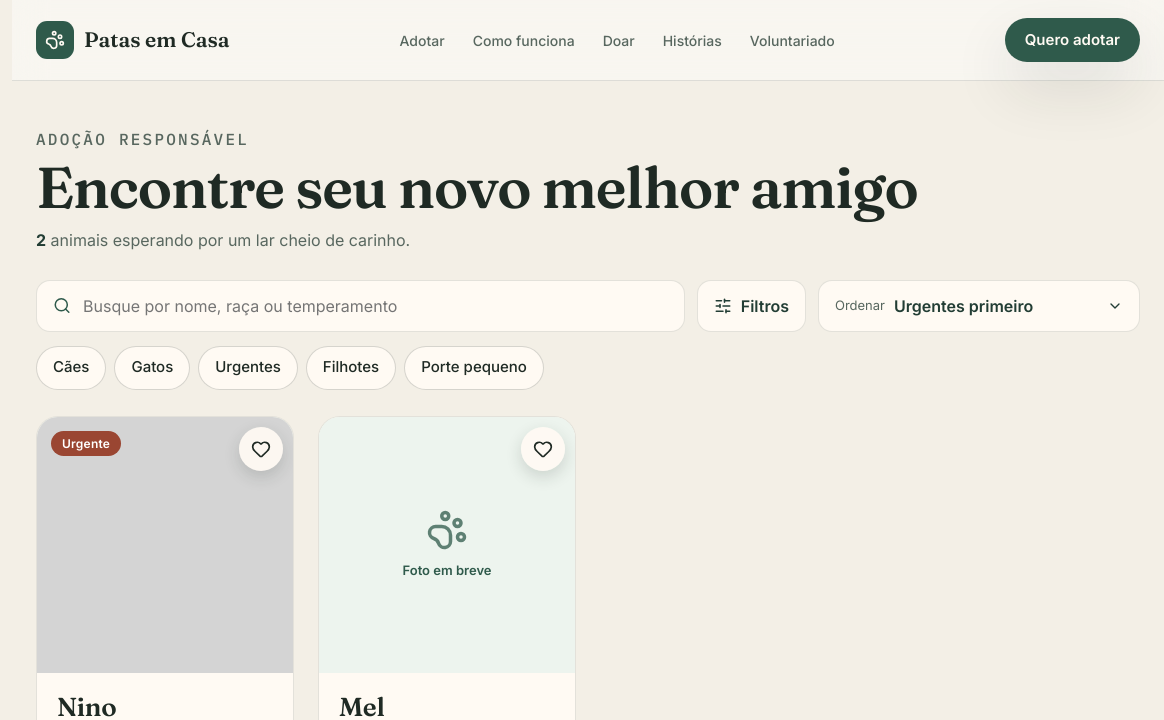
Test: favorites are saved in the browser and can be shown alone
The image size is (1164, 720).
Expected: the button "Meus favoritos" is not shown
# Favorita a Mel.
Step 1. Click the button named "Favoritar Mel" → (543, 449), box [521,427,565,471]
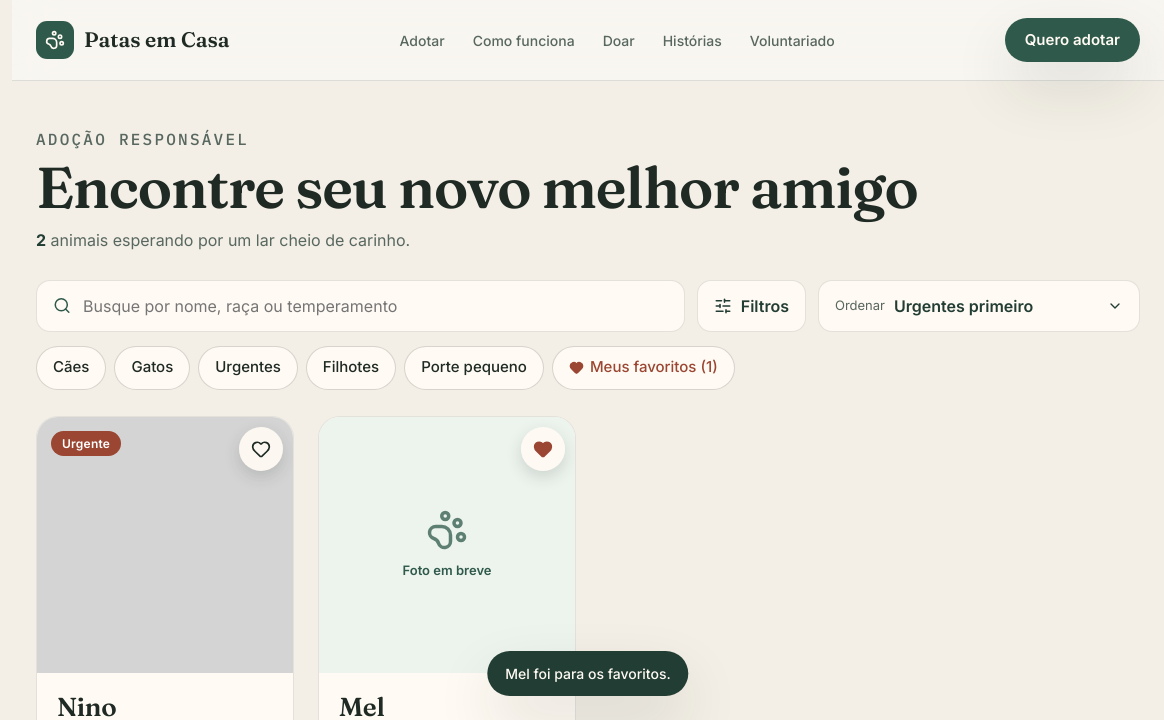
Result: the button named "Favoritar Mel" is pressed at [521,427,565,471]
# Filtra só os favoritos (os parênteses estão escapados na regex: \( e \)).
Step 2. Click the button "Meus favoritos (1)" → (643, 368), box [552,346,735,390]
(page scrolled)
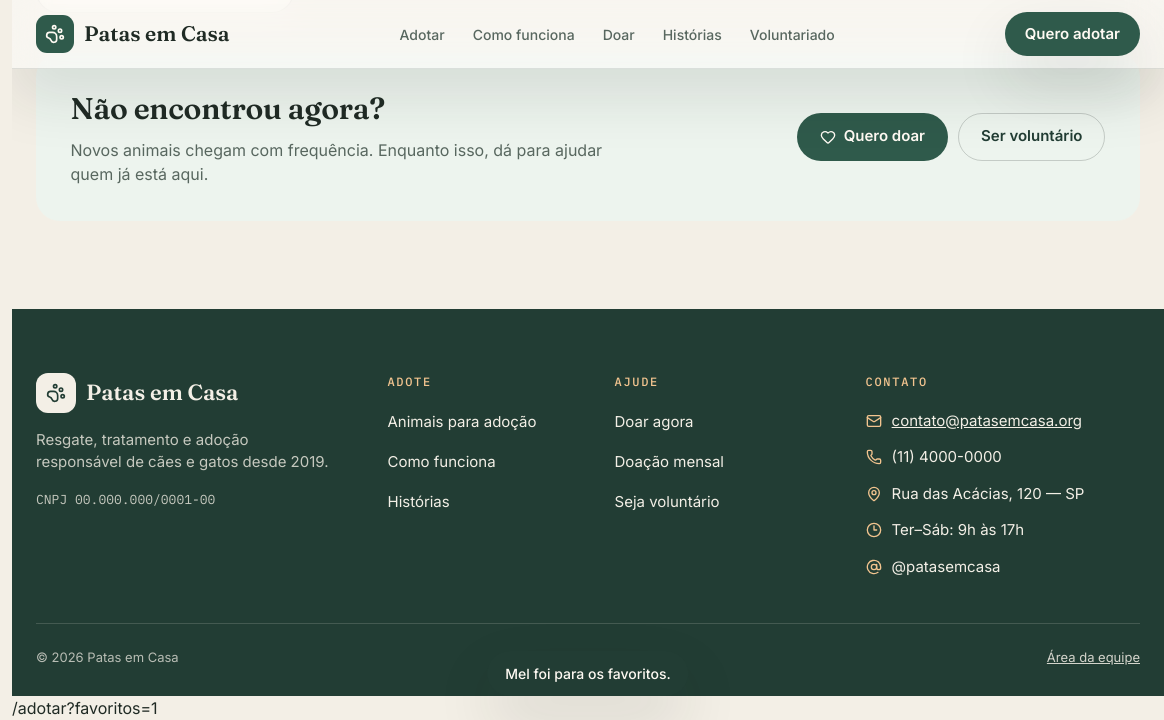
Result: the text with test id "location" shows "favoritos=1" at [12,698,158,718]
